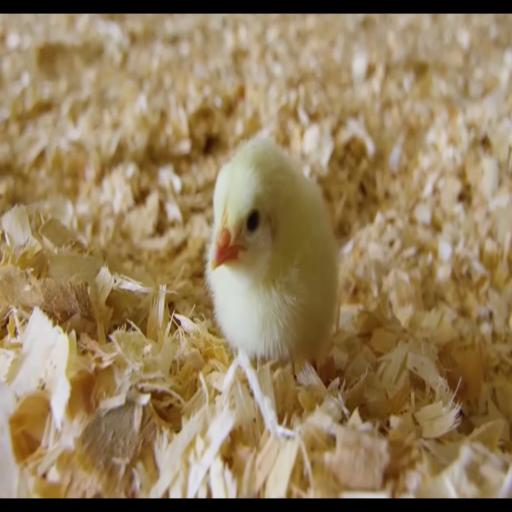chick: (206, 138, 337, 360)
